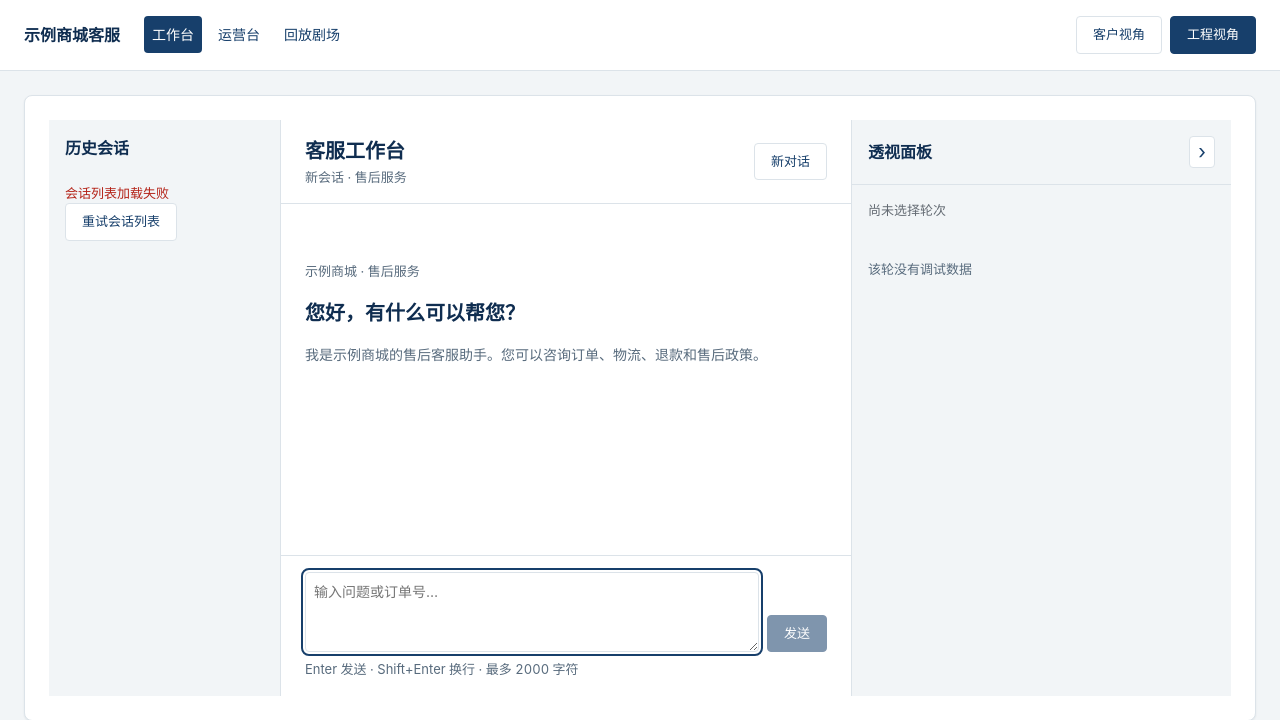
Test case: hash routes › navigates through the three top bar entries
Expected: the text "示例商城客服" is shown, [24, 23, 120, 47]
Step 1. Click the link "运营台" → (239,35), box [218, 26, 260, 43]
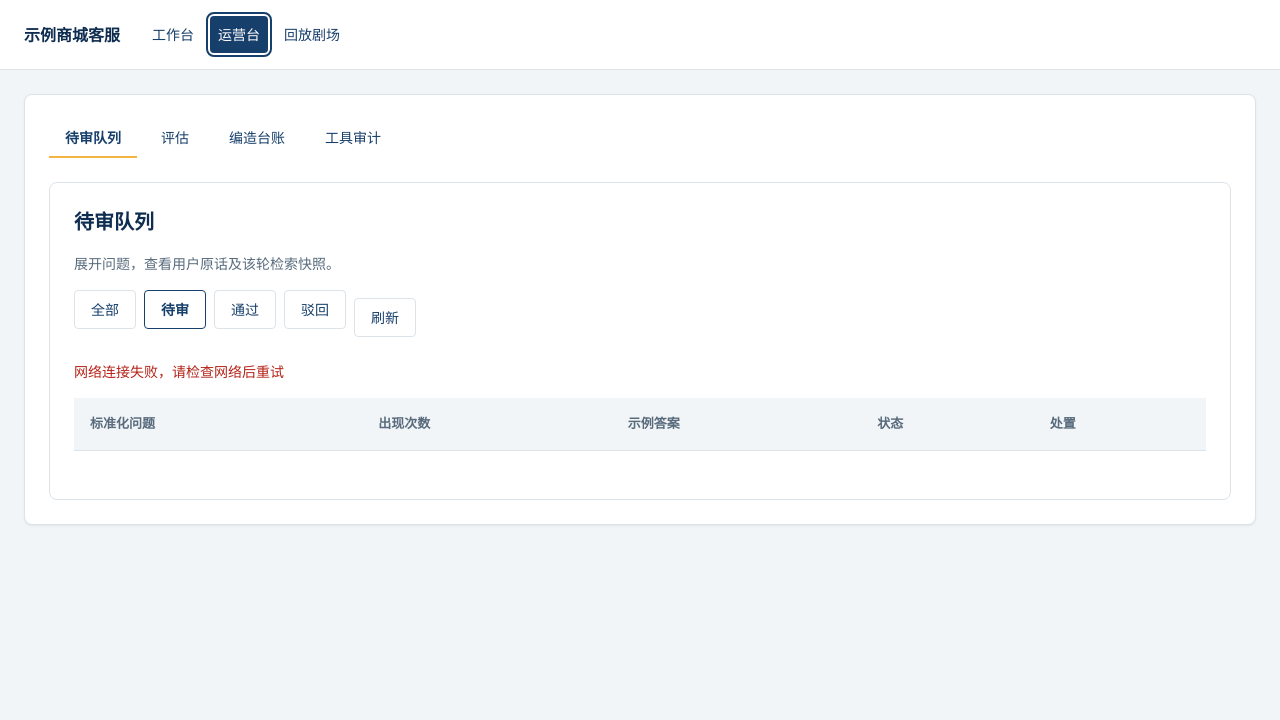
Expected: the heading "待审队列" is shown, [74, 210, 154, 234]
Step 2. Click the link "回放剧场" → (312,34), box [284, 26, 340, 43]
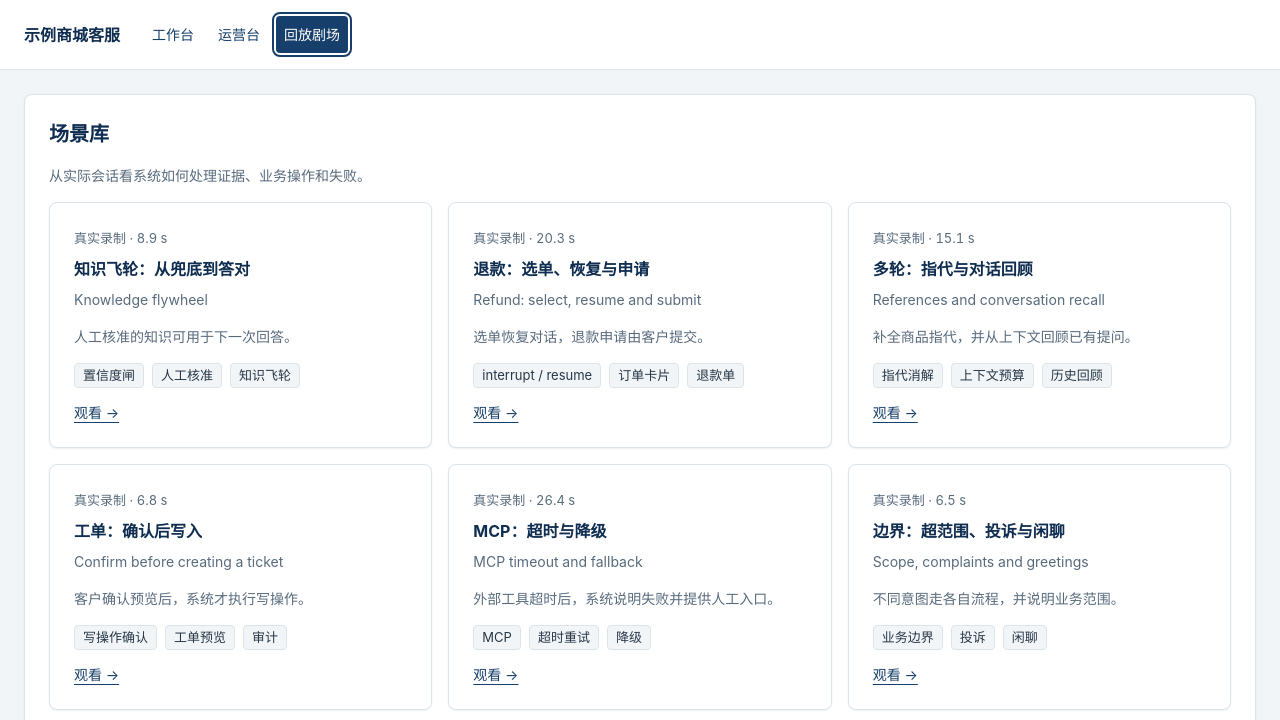
Expected: the heading "场景库" is shown, [49, 122, 109, 146]
Step 3. Click the link "工作台" → (173,34), box [152, 26, 194, 43]
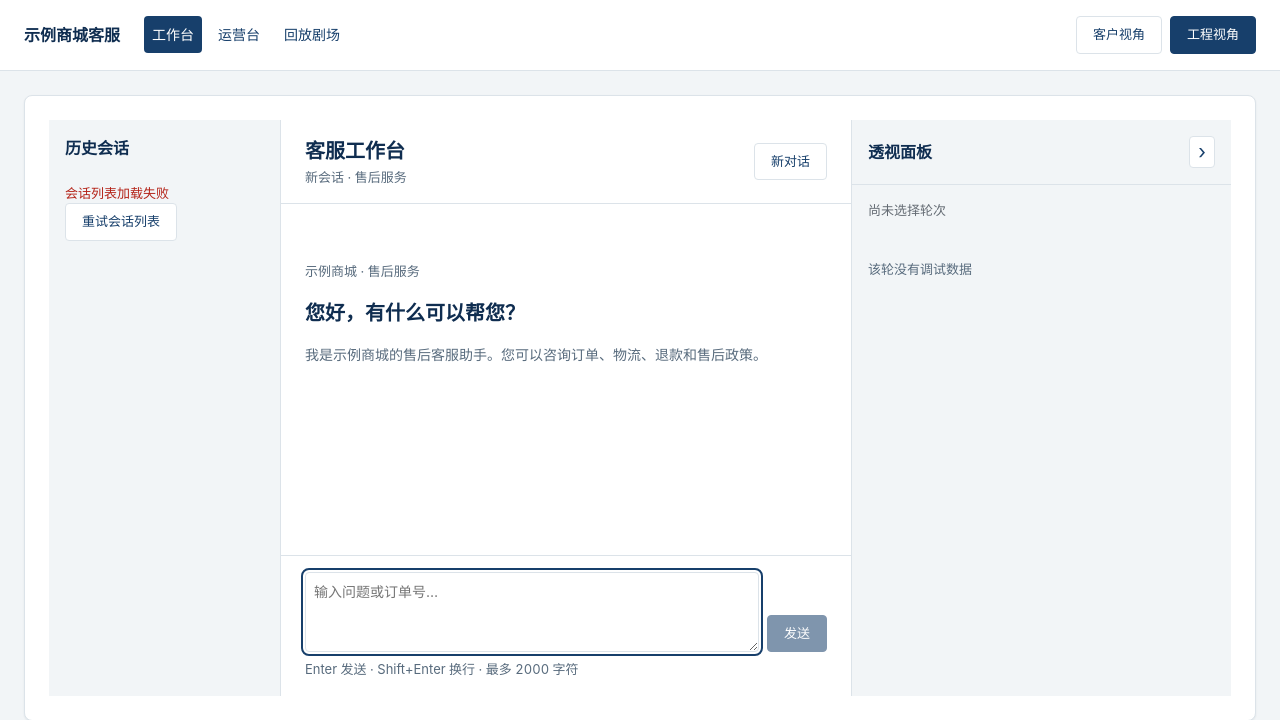
Expected: the heading "客服工作台" is shown, [305, 138, 405, 162]
